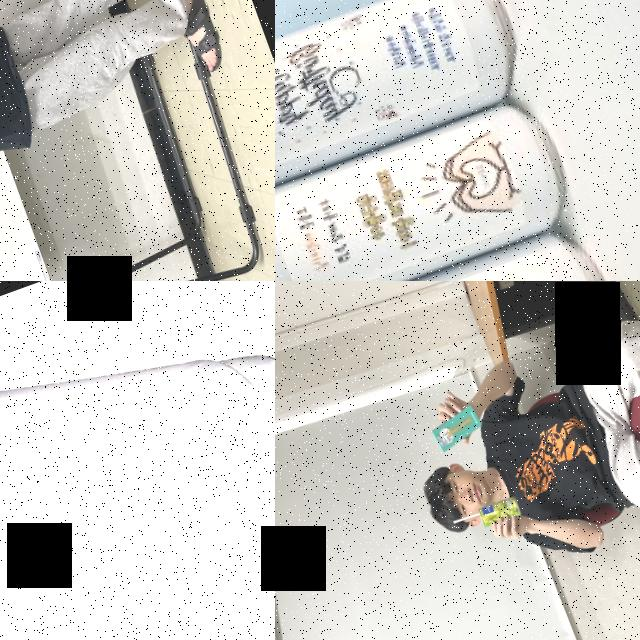can: (275, 90, 585, 281), (275, 0, 538, 209), (275, 213, 635, 281), (477, 493, 523, 528)
cup: (0, 281, 275, 640)
